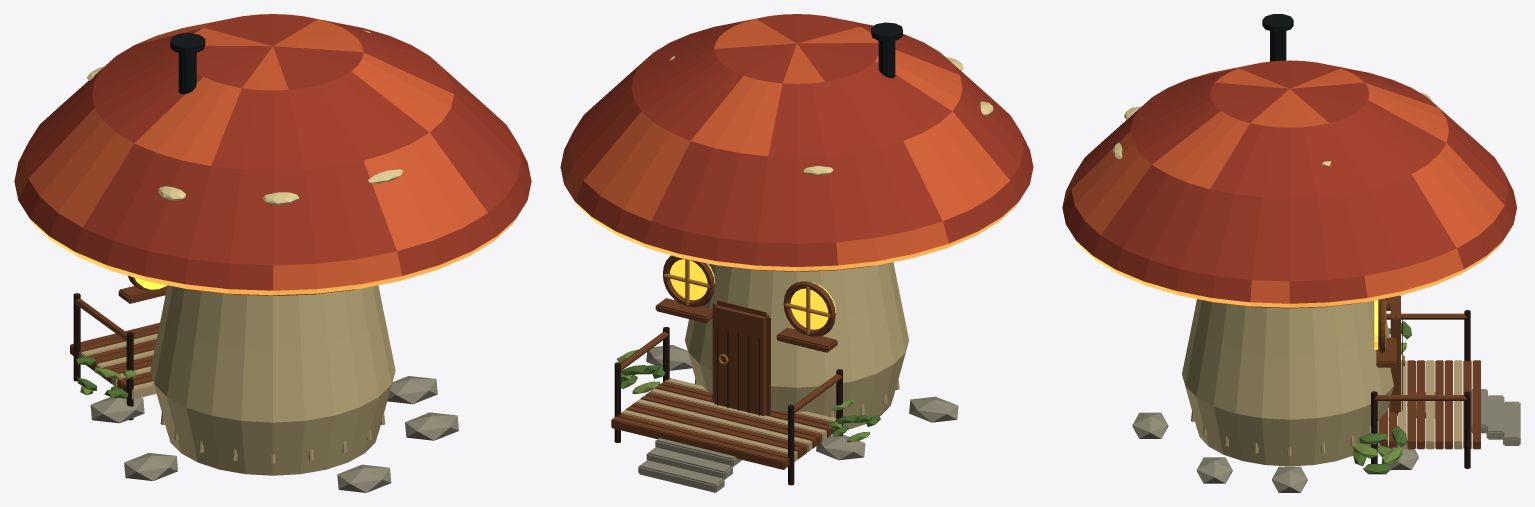
Rendered from mushroom_2.glb.
The picture shows the model from 3 angles, left to right: view 1: azimuth 30°, elevation 25°; view 2: azimuth 150°, elevation 25°; view 3: azimuth 270°, elevation 25°; orthographic projection. The views are drawn at different scales.
Visible parts, largest first — view 1: Fernbell home.002Mesh; view 2: Fernbell home.002Mesh; view 3: Fernbell home.002Mesh.
Boxes of the visible parts, x1=… form: Fernbell home.002Mesh: x1=14, y1=14, x2=531, y2=492; Fernbell home.002Mesh: x1=560, y1=14, x2=1033, y2=492; Fernbell home.002Mesh: x1=1062, y1=14, x2=1520, y2=492.
Bounding box in the file's own units: 7.8 × 7.01 × 7.86.
